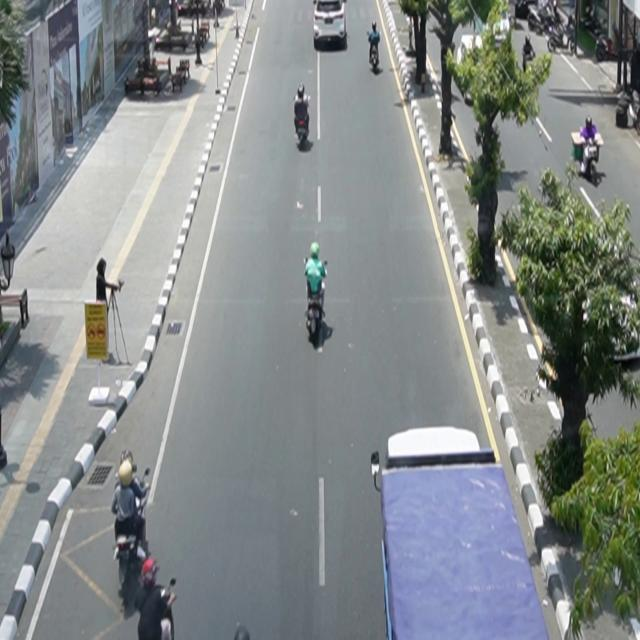car: (313, 1, 347, 45)
